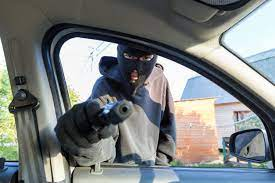gun: (96, 98, 135, 126)
